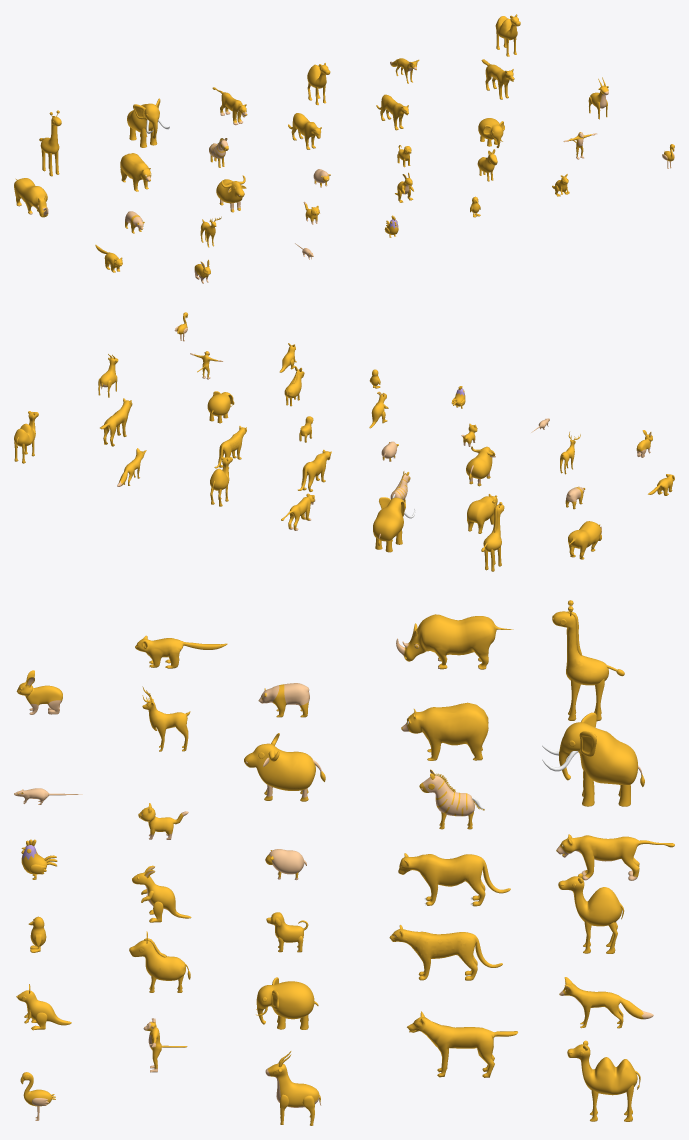
Rendered from Lowpoly_Non-Animated_Ultimate_Animal_Pack.glb.
3 views of the same model, one above another, from view 1: azimuth 30°, elevation 25°; view 2: azimuth 150°, elevation 25°; view 3: azimuth 270°, elevation 25° (orthographic). The views are drawn at different scales.
Parts seen in each view (by area): view 1: unnamed (×9); view 2: unnamed (×11); view 3: unnamed (×21).
Part boxes in pixels (box(x1,y1,x2,y2)): unnamed (×9): box(14, 61, 513, 217); unnamed (×11): box(14, 357, 601, 559); unnamed (×21): box(17, 611, 663, 1123).
Size of the model in its own units: 94.86 by 10.77 by 56.4.
